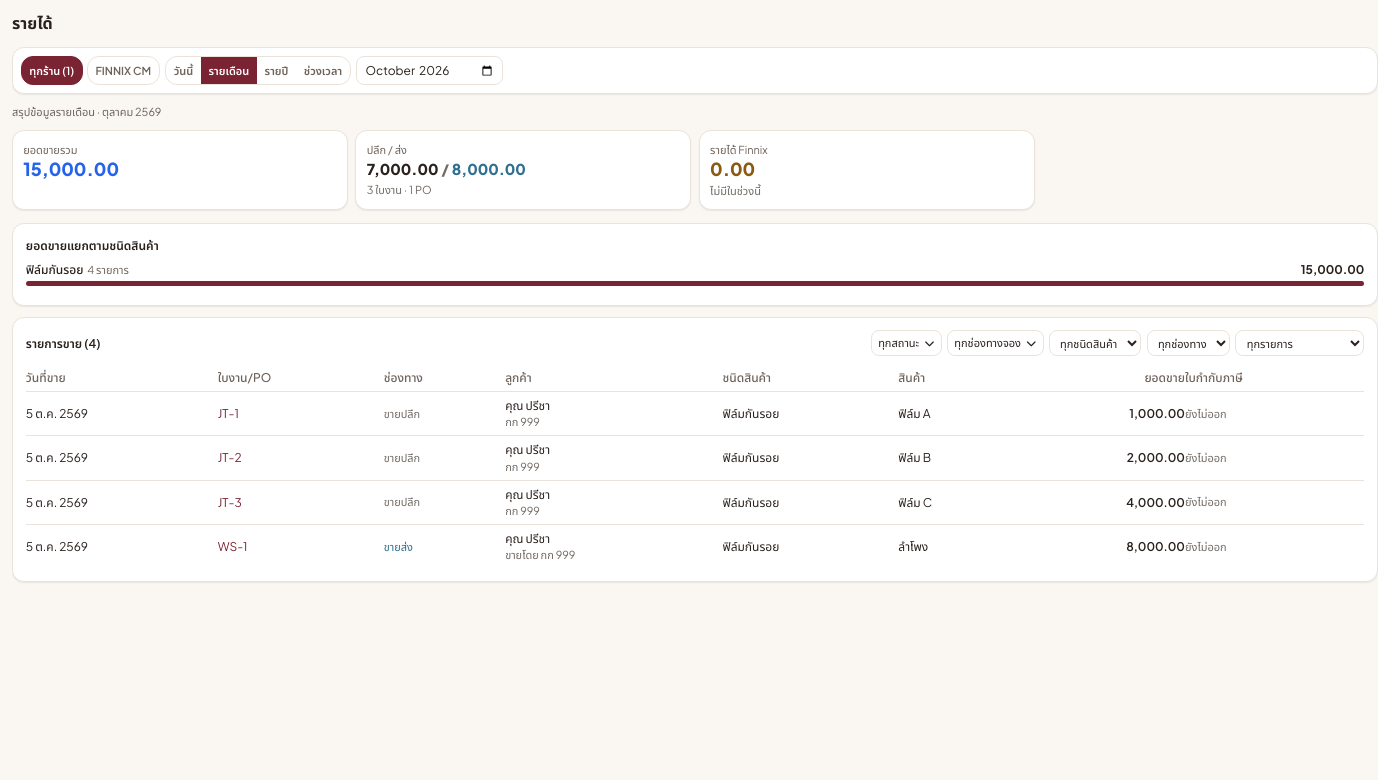
RevenueModule — กรองตามจองผ่าน › เสนอเฉพาะช่องทางที่มีจริง และไม่เสนอค่าว่างของขายส่ง
The width and height of the screenshot is (1378, 780).
Click the button with aria-label "กรองตามจองผ่าน": x=995, y=343 [947,330,1044,356]
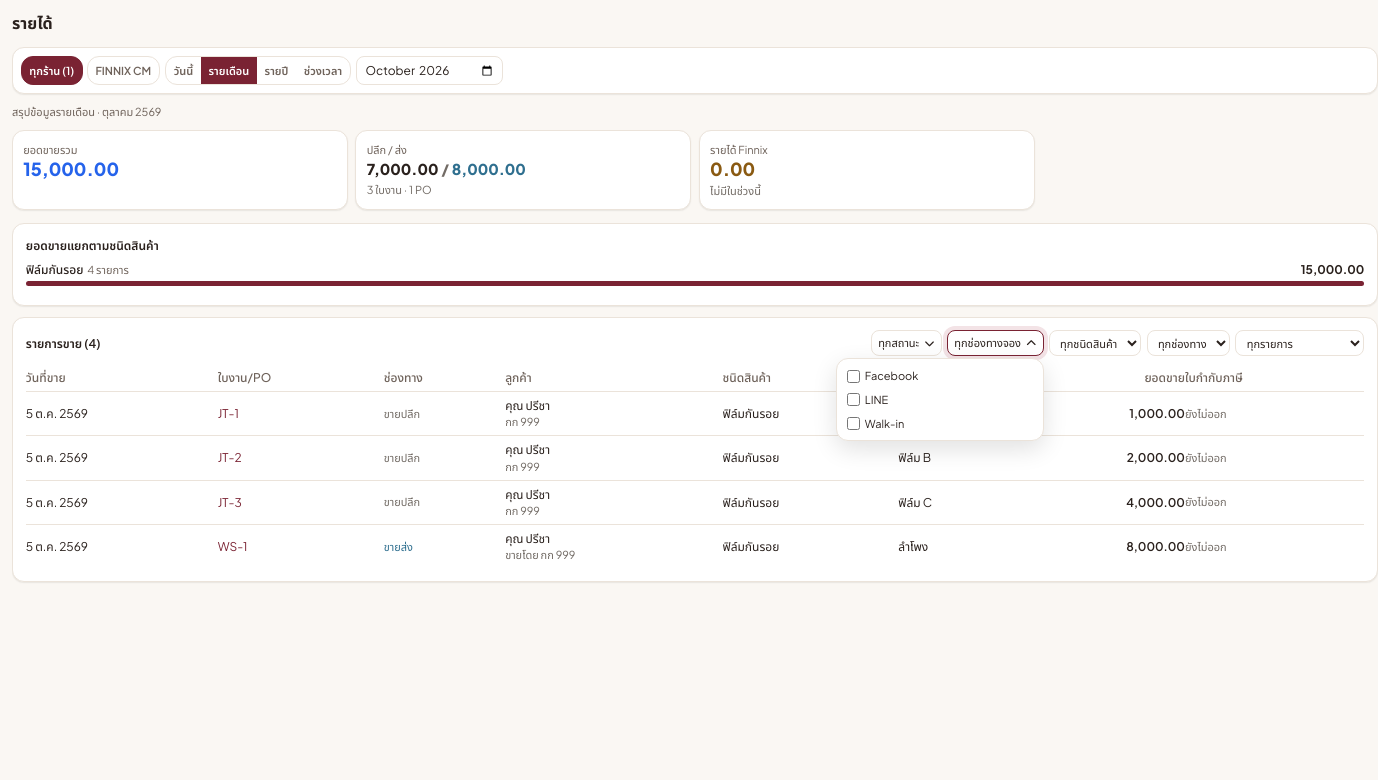
Result: the checkbox labelled "Facebook" is shown at [847,370,860,383]
Result: the checkbox labelled "Walk-in" is shown at [847,417,860,430]
Result: the checkbox labelled "LINE" is shown at [847,393,860,406]
